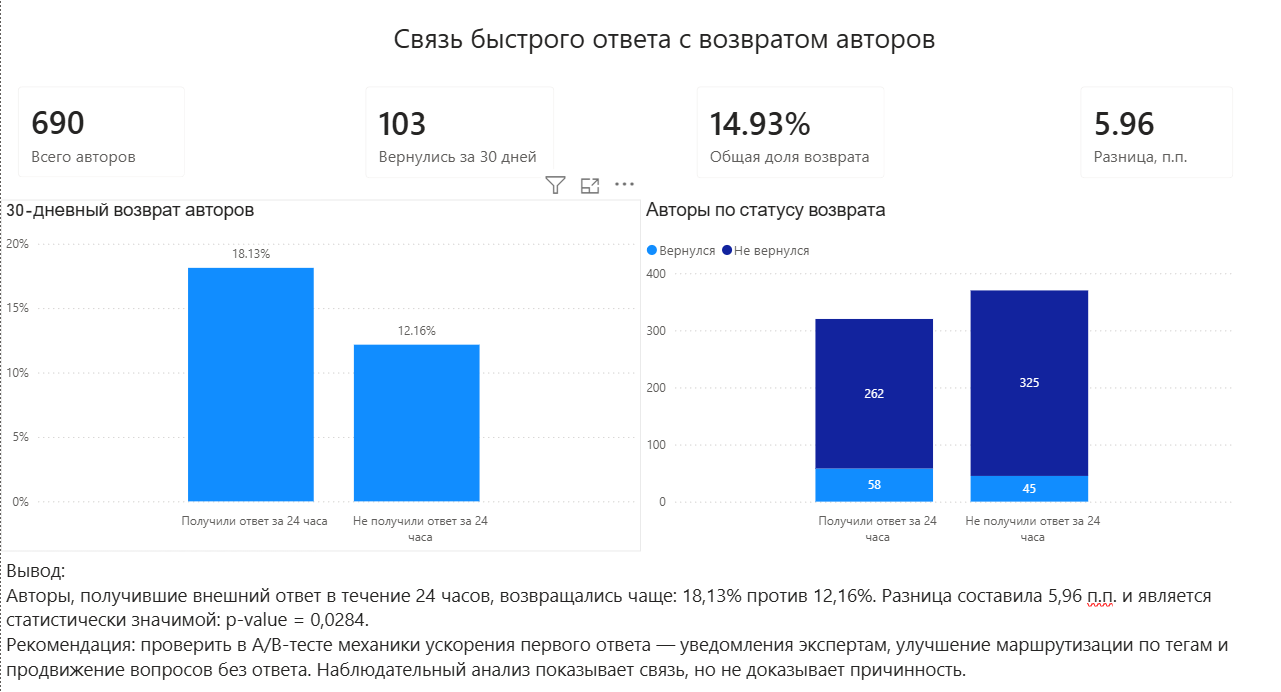

The page's visual inventory and layout, read from the dashboard file:
{"tool":"powerbi","page":{"name":"Обзор","canvas":[1280,720],"ordinal":0},"visuals":[{"type":"cardVisual","fields":{"Data":["retention_dashboard.Authors Count"]},"box":[0,97.1,201.4,125.7],"z":0},{"type":"cardVisual","fields":{"Data":["retention_dashboard.Returned Authors"]},"box":[347.5,97.5,223.8,126.2],"z":1000},{"type":"cardVisual","fields":{"Data":["retention_dashboard.Return Rate"]},"box":[678.8,97.5,222.5,126.2],"z":2000},{"type":"clusteredColumnChart","title":"30-дневный возврат авторов","fields":{"Category":["retention_dashboard.answer_group"],"Y":["retention_dashboard.Return Rate"]},"box":[0,227.1,640,352.9],"z":3000},{"type":"cardVisual","fields":{"Data":["retention_dashboard.Return Rate Difference PP"]},"box":[1062.5,97.5,187.5,126.2],"z":4000},{"type":"textbox","box":[387.1,42.9,581.7,58.3],"z":5000},{"type":"columnChart","title":"Авторы по статусу возврата","fields":{"Category":["retention_dashboard.answer_group"],"Series":["retention_dashboard.return_status"],"Y":["retention_dashboard.Всего авторов"]},"box":[640,227.1,598.6,352.9],"z":6000},{"type":"textbox","box":[0,580,1280,140],"z":7000}]}

Visuals, with their boxes on the page's 1280x720 design canvas (x1, y1, x2, y2). These are canvas units, not pixel positions in the 1281x692 screenshot, which may show the page scaled, cropped or inside an application window:
cardVisual - retention_dashboard.Authors Count: {"left": 0, "top": 97, "right": 201, "bottom": 223}
cardVisual - retention_dashboard.Returned Authors: {"left": 348, "top": 98, "right": 571, "bottom": 224}
cardVisual - retention_dashboard.Return Rate: {"left": 679, "top": 98, "right": 901, "bottom": 224}
"30-дневный возврат авторов" clusteredColumnChart: {"left": 0, "top": 227, "right": 640, "bottom": 580}
cardVisual - retention_dashboard.Return Rate Difference PP: {"left": 1062, "top": 98, "right": 1250, "bottom": 224}
textbox: {"left": 387, "top": 43, "right": 969, "bottom": 101}
"Авторы по статусу возврата" columnChart: {"left": 640, "top": 227, "right": 1239, "bottom": 580}
textbox: {"left": 0, "top": 580, "right": 1280, "bottom": 720}
